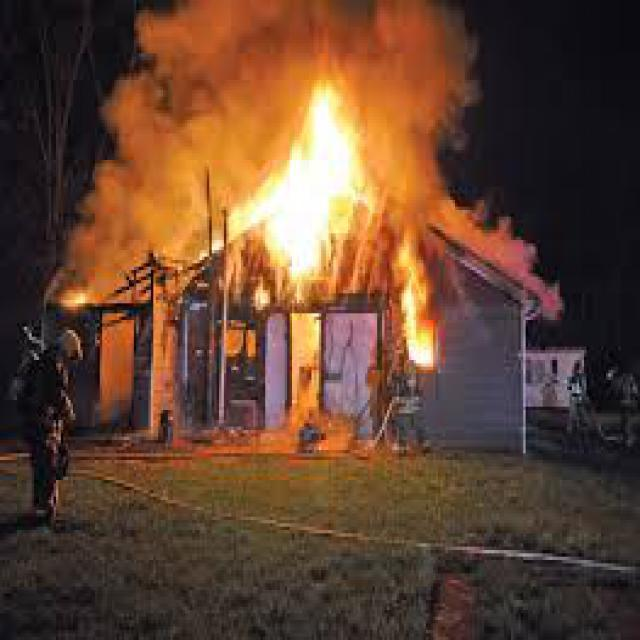Fire: (211, 101, 377, 274)
Smoke: (121, 0, 472, 106)
